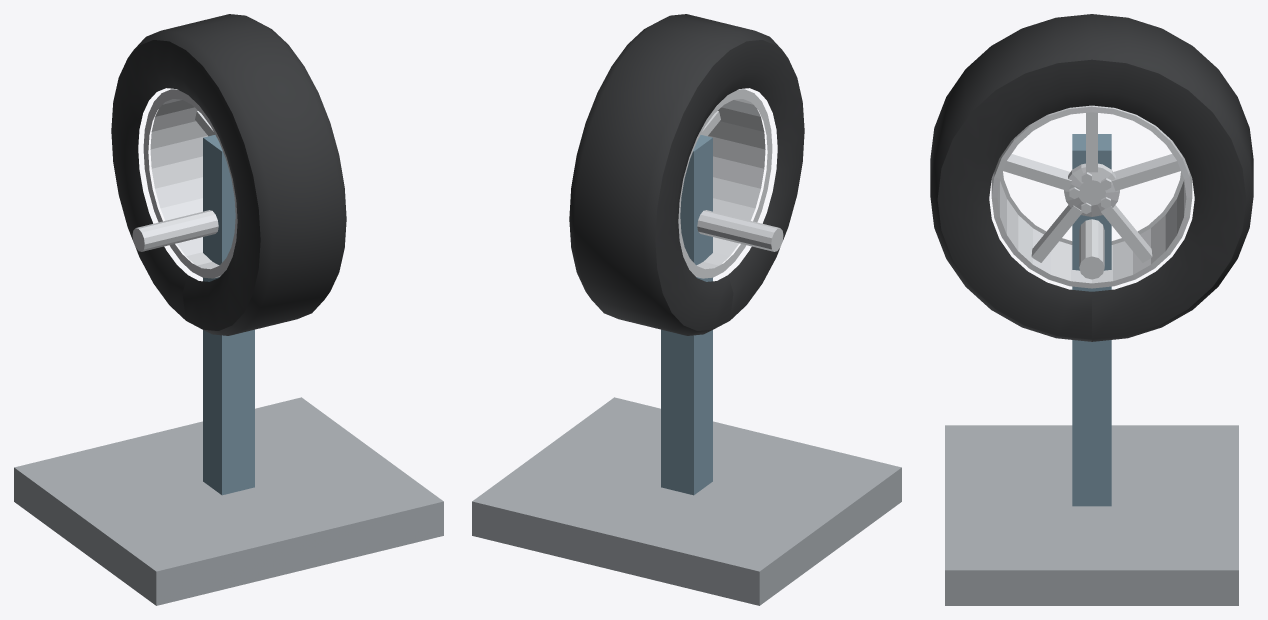
The model's file is road-car-showroom-lineup-wheel-display-stand-6b28b5b9__15137.glb.
3 renders of one model, left to right at view 1: azimuth 30°, elevation 25°; view 2: azimuth 150°, elevation 25°; view 3: azimuth 270°, elevation 25°, orthographic. The views are drawn at different scales.
Parts seen in each view (by area): view 1: wheel-display-stand, display-wheel/rubber, display-wheel/alloy; view 2: wheel-display-stand, display-wheel/rubber, display-wheel/alloy; view 3: wheel-display-stand, display-wheel/rubber, display-wheel/alloy.
Boxes of the visible parts, <box> form: wheel-display-stand: <box>14,135,443,605</box>; display-wheel/rubber: <box>111,14,346,335</box>; display-wheel/alloy: <box>143,88,237,278</box>; wheel-display-stand: <box>472,135,901,605</box>; display-wheel/rubber: <box>569,14,804,335</box>; display-wheel/alloy: <box>678,88,772,278</box>; wheel-display-stand: <box>945,134,1238,605</box>; display-wheel/rubber: <box>930,14,1253,341</box>; display-wheel/alloy: <box>991,105,1192,288</box>.
Bounding box in the file's own units: 0.7 × 1.13 × 0.66.
